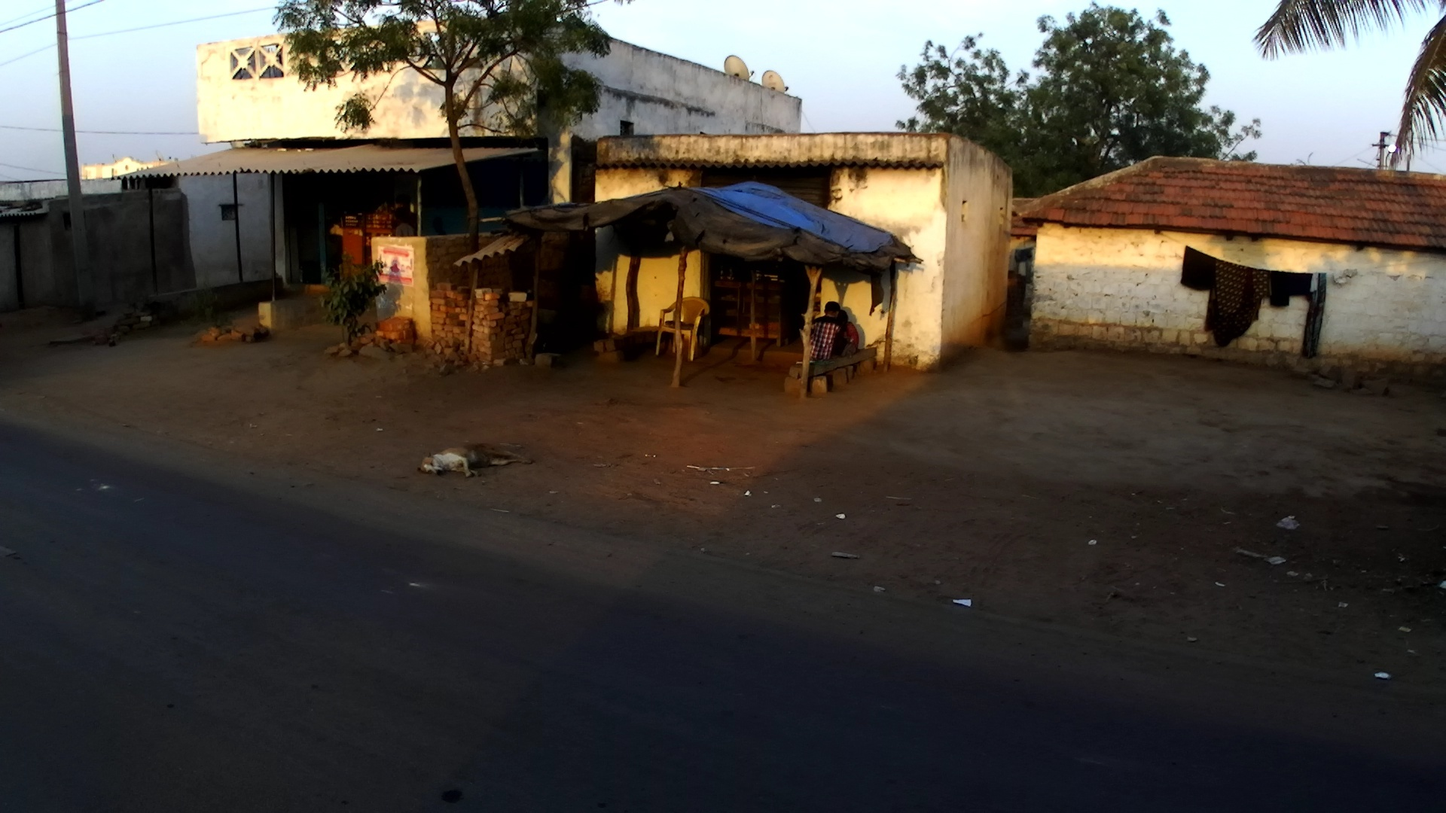animal: (413, 442, 540, 481)
person: (810, 302, 843, 373), (832, 308, 862, 362), (386, 206, 418, 246)
